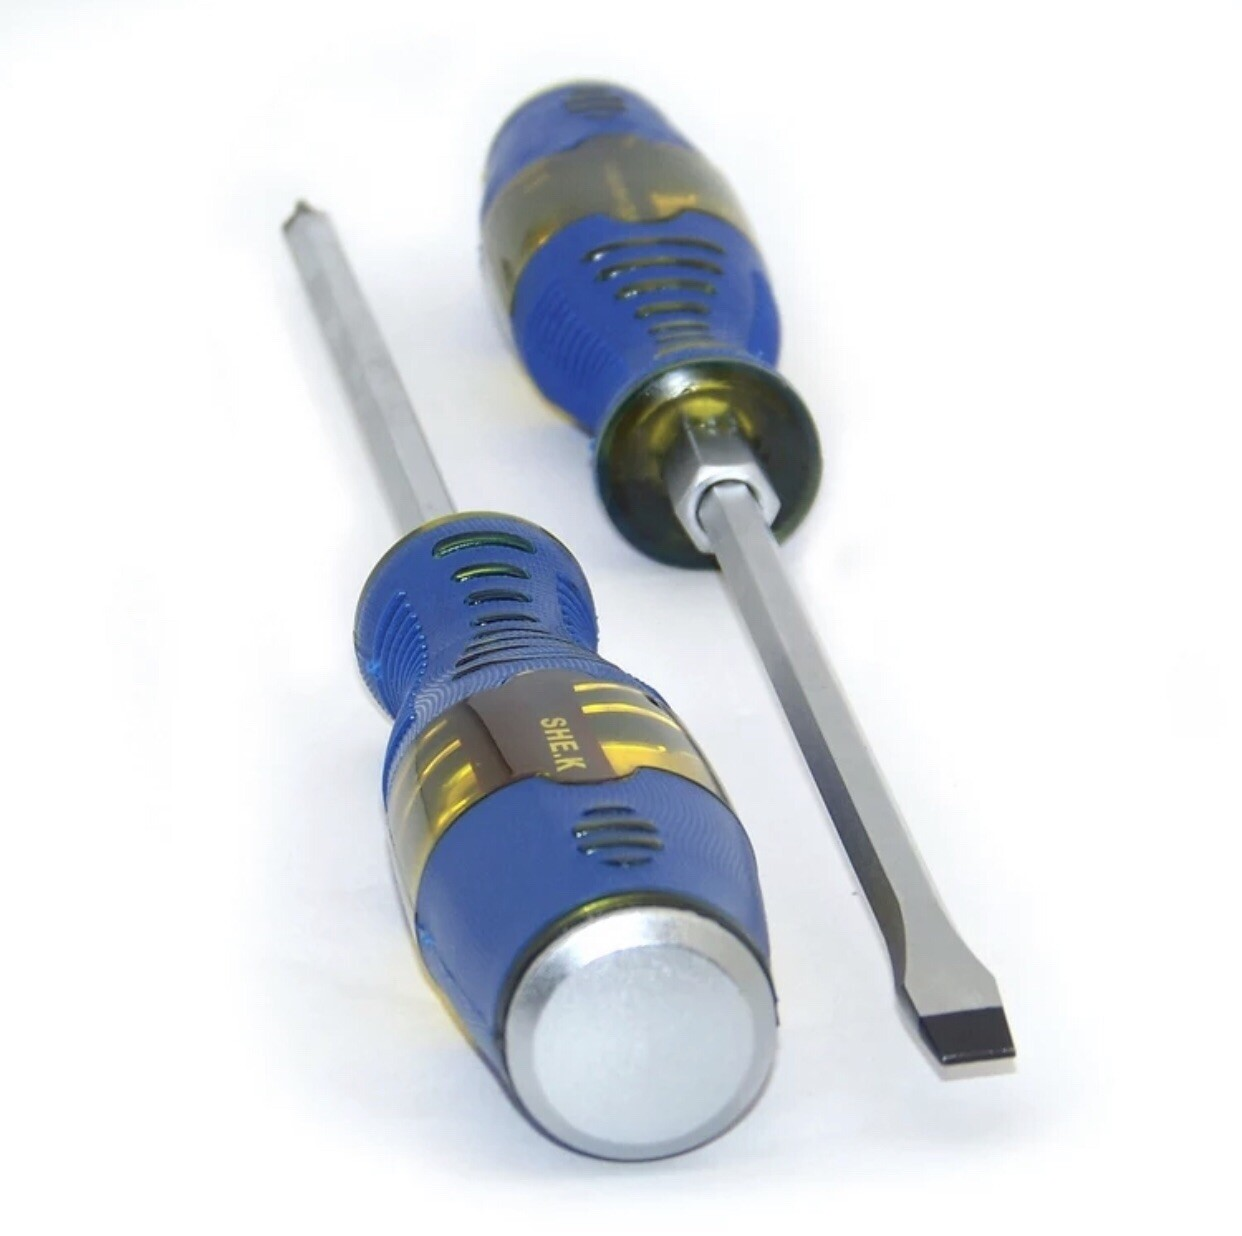screwdriver: (470, 81, 1023, 1085), (269, 197, 783, 1169)
